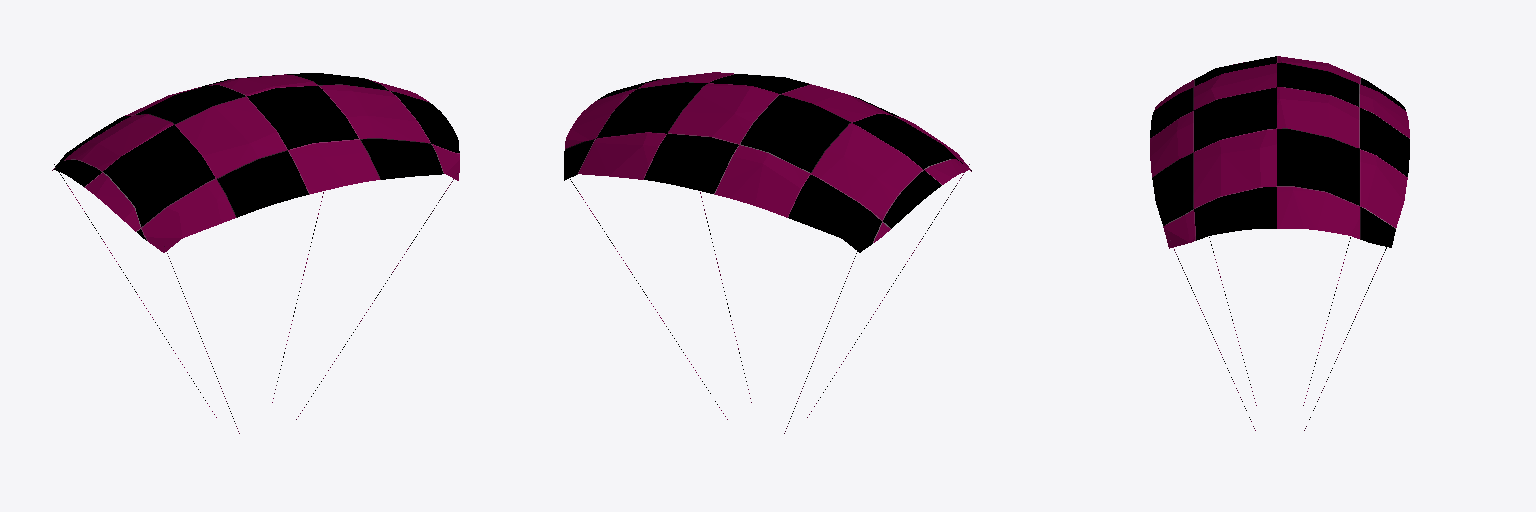
The picture shows the model from 3 angles: view 1: azimuth 30°, elevation 25°; view 2: azimuth 150°, elevation 25°; view 3: azimuth 270°, elevation 25°; orthographic projection.
Parts seen in each view (by area): view 1: polySurface7; view 2: polySurface7; view 3: polySurface7.
Part boxes in pixels (x1,y1,x2,y2): polySurface7: (52,73,459,433); polySurface7: (564,72,971,433); polySurface7: (1150,56,1409,430).
Size of the model in its own units: 105 by 95.73 by 68.27.
Materials: 1 (1 with a texture image).